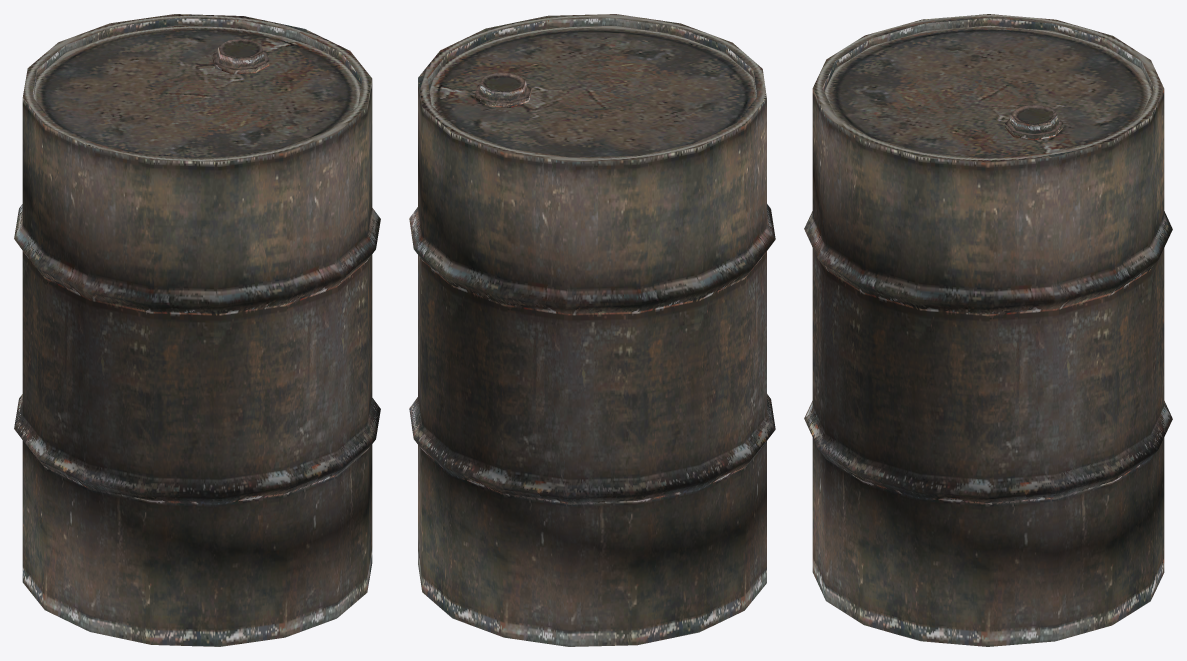
File: barrel_close_1.fbx
The picture shows the model from 3 angles, left to right: view 1: azimuth 30°, elevation 25°; view 2: azimuth 150°, elevation 25°; view 3: azimuth 270°, elevation 25°; orthographic projection.
Visible parts, largest first — view 1: 0; view 2: 0; view 3: 0.
Part boxes in pixels (x1,y1,x2,y2): 0: (14, 14, 380, 646); 0: (409, 14, 775, 646); 0: (804, 14, 1172, 646).
Size of the model in its own units: 0.7414 by 1.09 by 0.7414.
